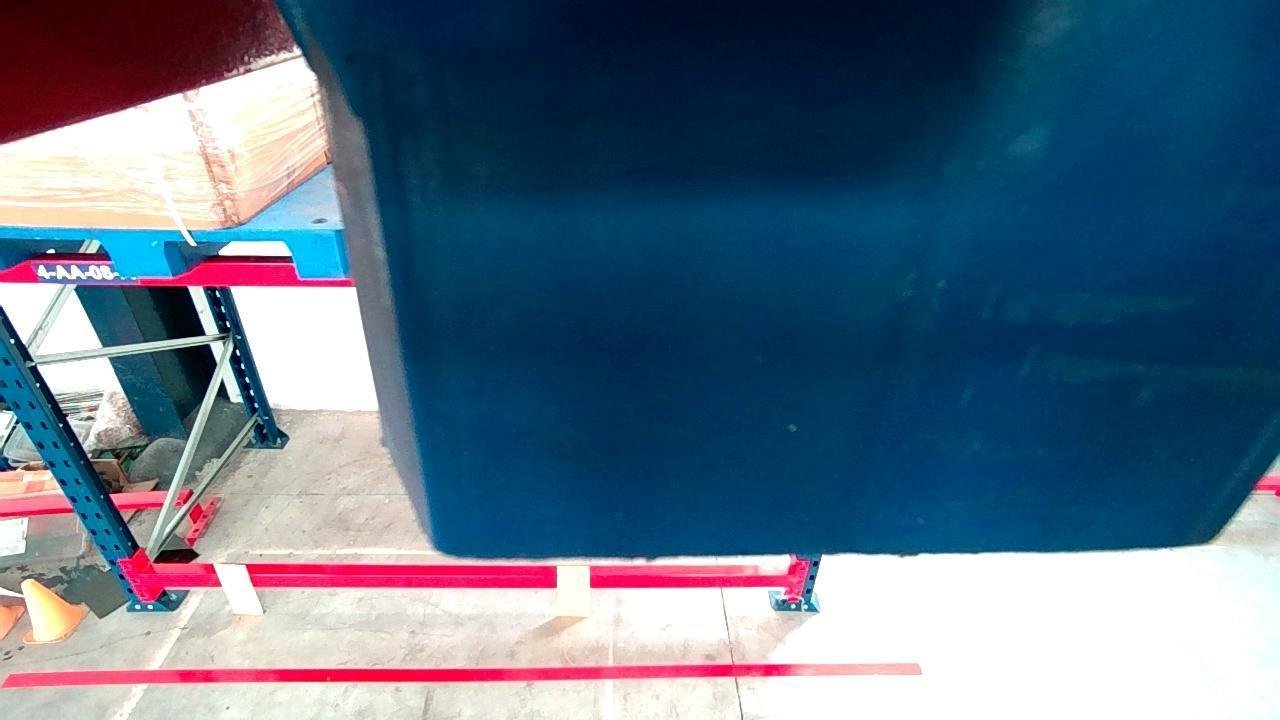h_rack: (0, 256, 355, 286), (139, 572, 788, 587)
orange_strip: (213, 564, 259, 616), (553, 563, 589, 617)
red_line: (1, 662, 926, 687)
small_pallet: (0, 224, 352, 277)
